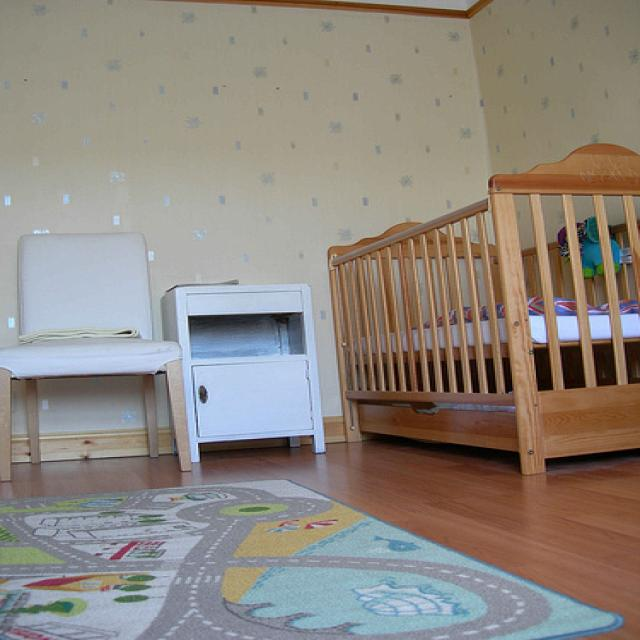bed: (324, 142, 638, 475)
chair: (0, 229, 193, 477)
